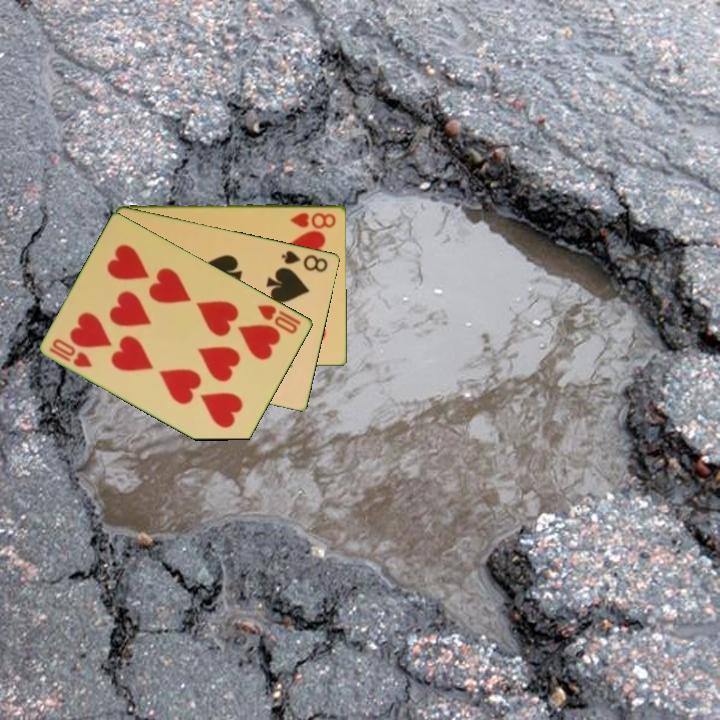10h: (254, 301, 304, 337), (46, 335, 96, 370)
8h: (287, 209, 339, 230)
8s: (278, 247, 331, 275)
